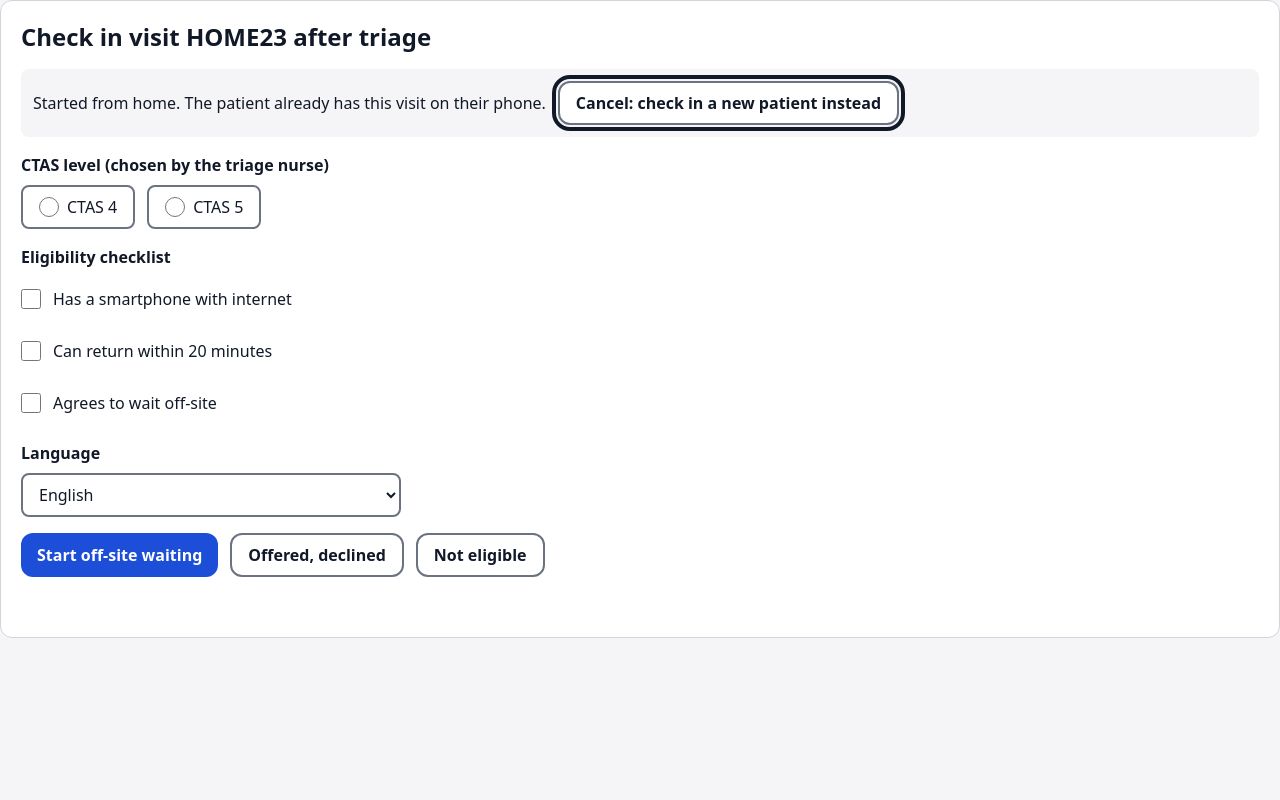
Test: CheckInPanel focus after Cancel › moves focus to the panel heading after Cancel gives up the home visit
Click the button "Cancel: check in a new patient instead".
click(728, 103)  # box top-left (558, 81), bottom-right (899, 125)
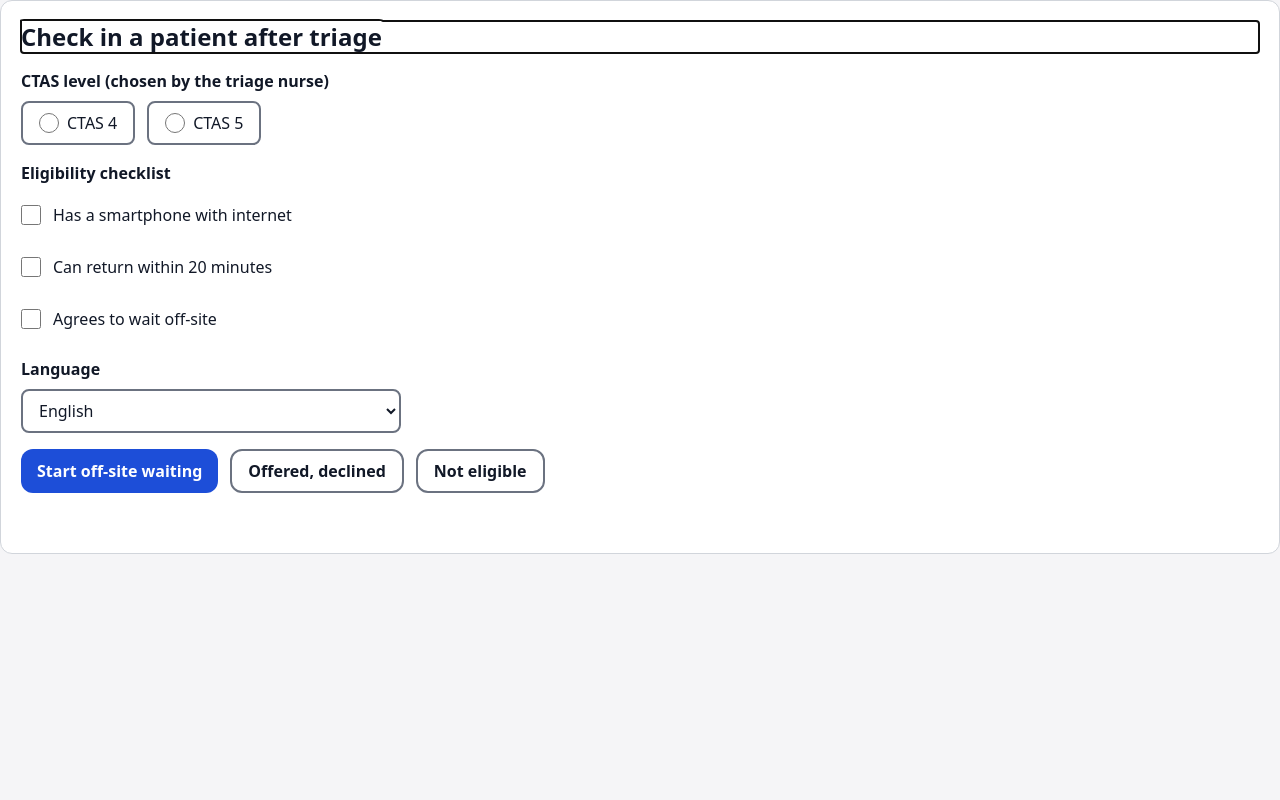
Now the heading with id "checkin-heading" reads "Check in a patient after triage", box top-left (21, 20), bottom-right (382, 53)
